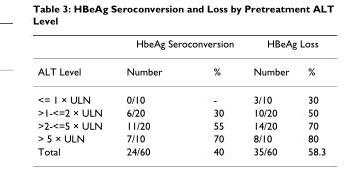table: (37, 37, 325, 156)
table column: (37, 37, 113, 156), (113, 37, 187, 156), (187, 37, 242, 156), (242, 37, 297, 156), (297, 37, 325, 156)
table column header: (37, 37, 325, 85)
table row: (37, 57, 325, 85), (37, 37, 325, 57), (37, 85, 325, 105), (37, 105, 325, 118), (37, 118, 325, 131), (37, 131, 325, 144), (37, 144, 325, 156)
table spanning cell: (37, 37, 113, 85), (113, 37, 242, 57), (242, 37, 325, 57)
